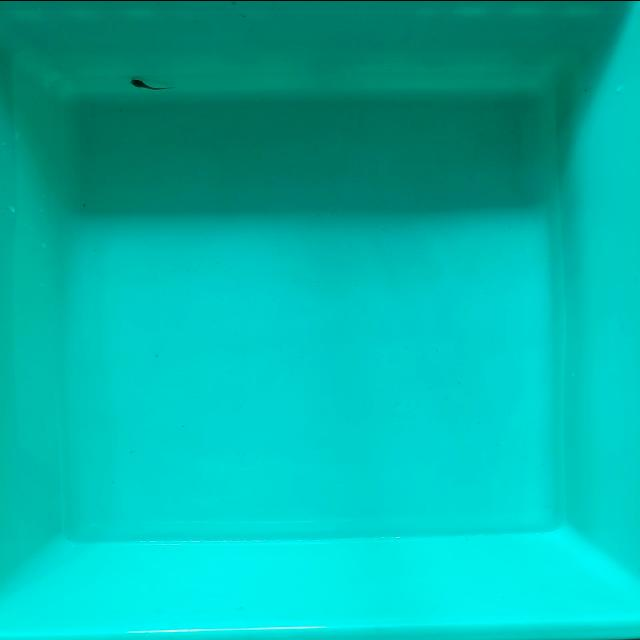lele: (130, 78, 172, 90)
